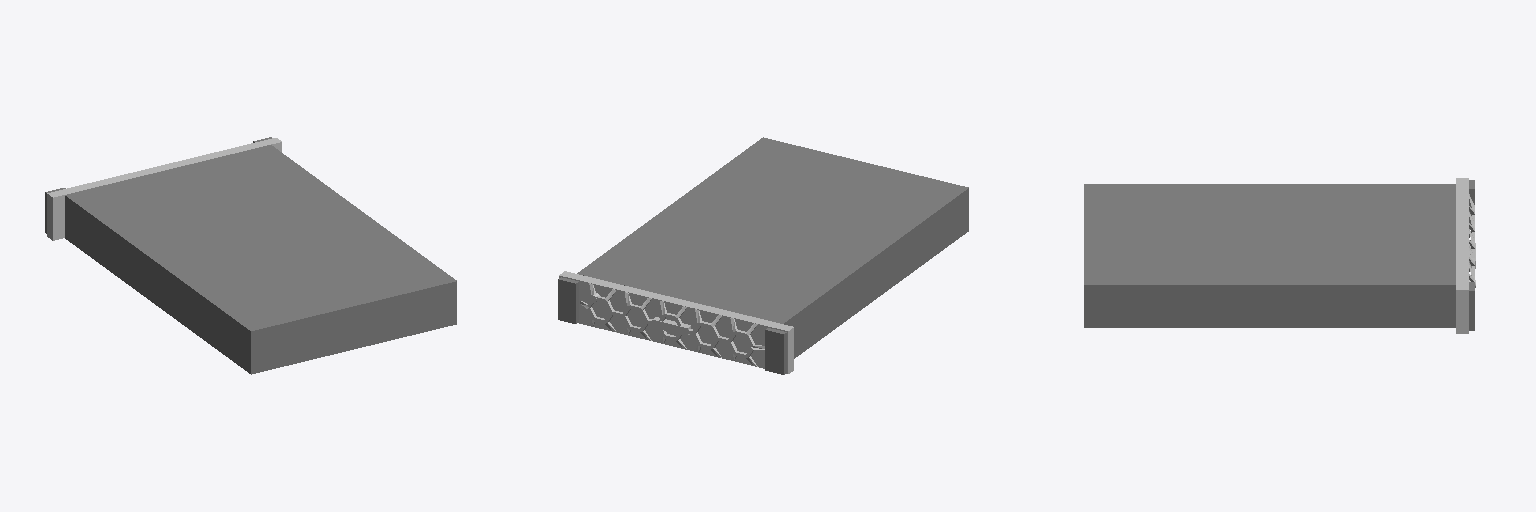
Rendered from r740_hex_new_mat.obj.
The picture shows the model from 3 angles: view 1: azimuth 30°, elevation 25°; view 2: azimuth 150°, elevation 25°; view 3: azimuth 270°, elevation 25°; orthographic projection.
Parts seen in each view (by area): view 1: Chassis_Cube, Front_Panel_Cube.002; view 2: Chassis_Cube, Front_Panel_Cube.002, Cube.030_Cube.065, Front_Panel.001_Cube.100, Front_Panel.003_Cube.102; view 3: Chassis_Cube, Front_Panel_Cube.002.
Part boxes in pixels (x1,y1,x2,y2): Chassis_Cube: (65, 145, 456, 374); Front_Panel_Cube.002: (47, 138, 281, 240); Chassis_Cube: (577, 137, 968, 358); Front_Panel_Cube.002: (559, 271, 793, 373); Cube.030_Cube.065: (580, 283, 764, 366); Front_Panel.001_Cube.100: (765, 328, 786, 374); Front_Panel.003_Cube.102: (558, 277, 578, 323); Chassis_Cube: (1084, 184, 1455, 327); Front_Panel_Cube.002: (1456, 178, 1468, 333).
Bounding box in the file's own units: 0.6426 × 0.1157 × 0.9534.